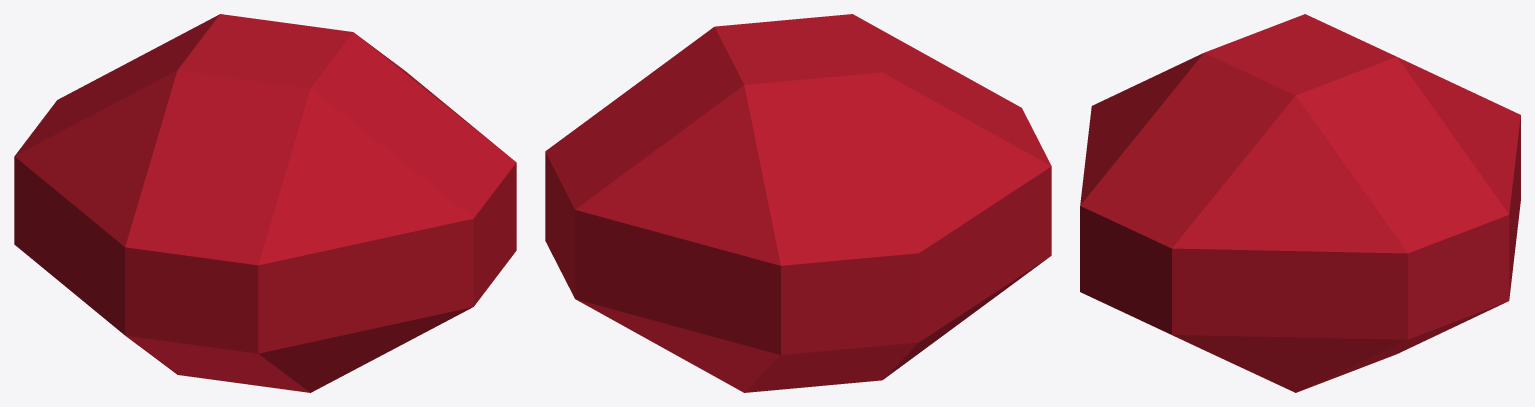
Rendered from tree-dead-leaves-021.glb.
3 renders of one model, left to right at view 1: azimuth 30°, elevation 25°; view 2: azimuth 150°, elevation 25°; view 3: azimuth 270°, elevation 25°, orthographic. The views are drawn at different scales.
Visible parts, largest first — view 1: Cube.071_458; view 2: Cube.071_458; view 3: Cube.071_458.
Part boxes in pixels (x1,y1,x2,y2): Cube.071_458: [14, 14, 516, 392]; Cube.071_458: [545, 14, 1051, 392]; Cube.071_458: [1080, 14, 1520, 392].
Bounding box in the file's own units: 0.6002 × 0.447 × 0.6002.
